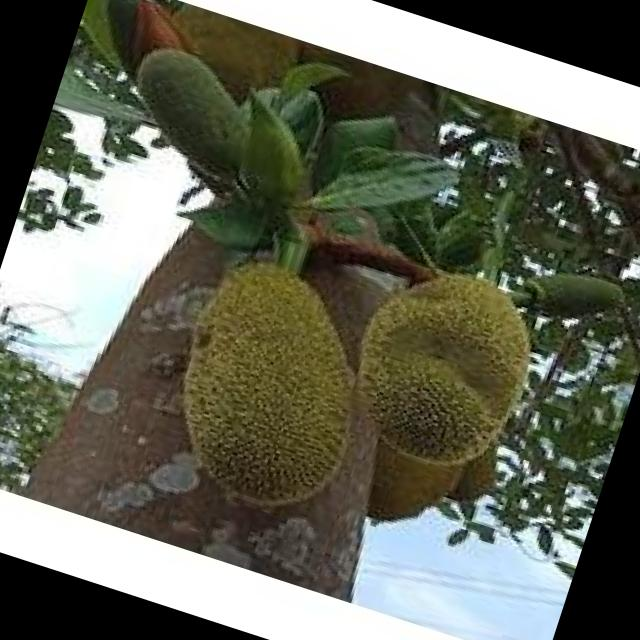Fruit: (290, 234, 568, 573), (119, 222, 408, 547)
